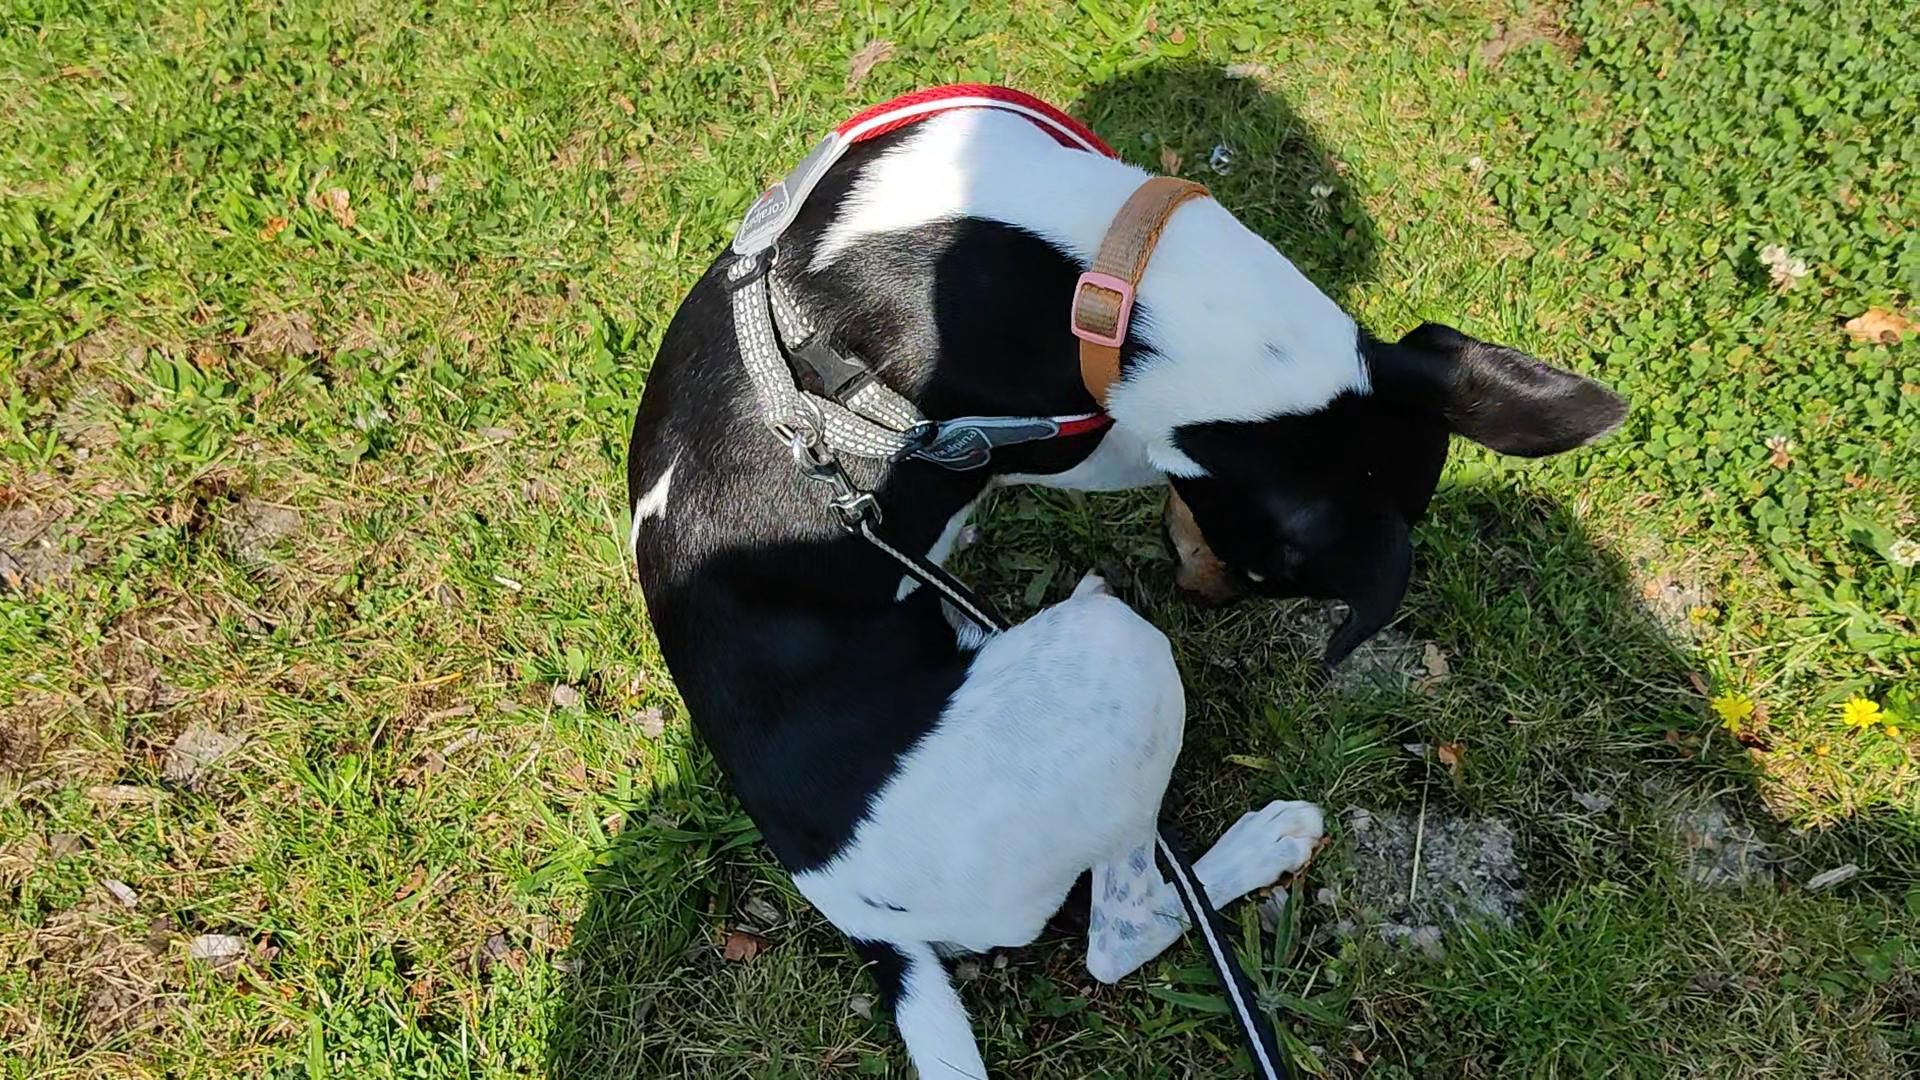Dog: (618, 73, 1634, 1079)
